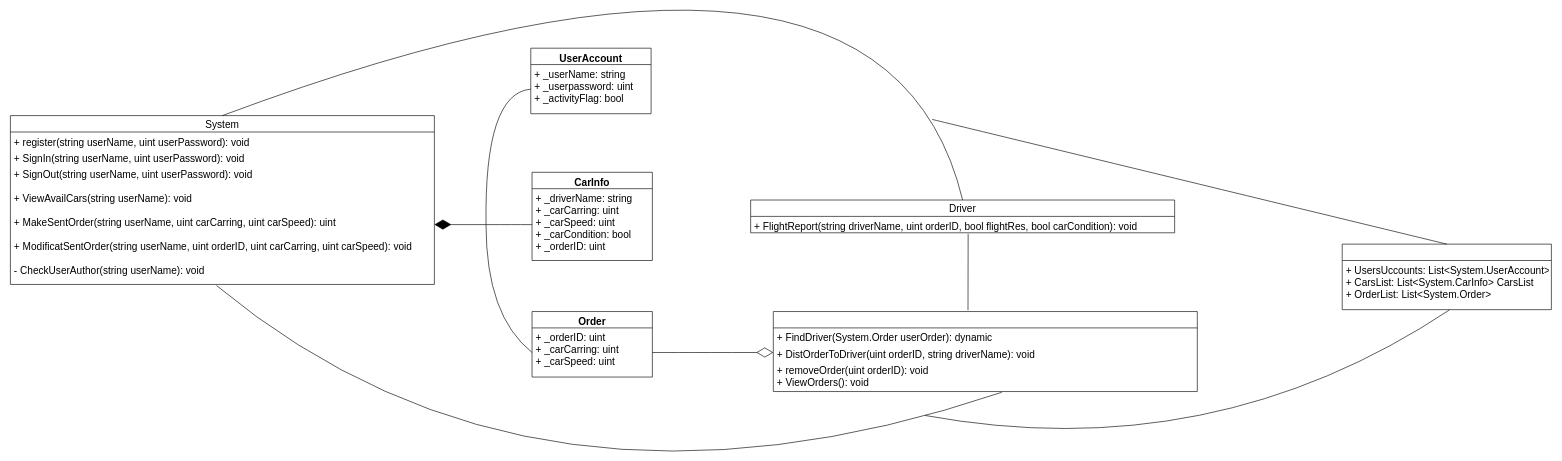
The diagram is 1562 pixels wide and 461 high, and some of its shapes have lost their labels. Here are the shapes that lost their labels. From the top down, the box of each, then its label:
(1342, 243, 1551, 310): Databases
(773, 311, 1197, 392): Dispatcher
